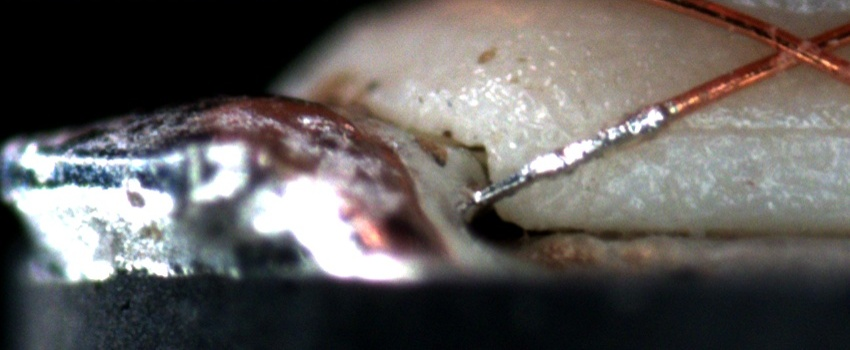CL: (751, 17, 844, 78)
DL: (677, 100, 850, 157)
TS: (474, 103, 676, 203)
TTCW: (462, 78, 725, 209)
